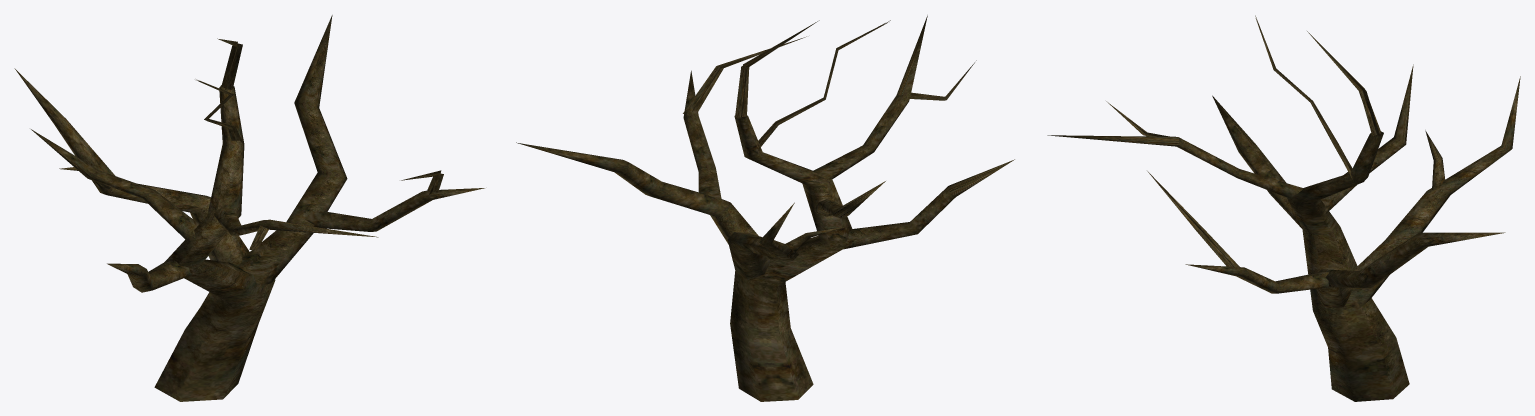
File: CB_BURNT_TREE01.fbx
3 views of the same model, side by side, from view 1: azimuth 30°, elevation 25°; view 2: azimuth 150°, elevation 25°; view 3: azimuth 270°, elevation 25° (orthographic). The views are drawn at different scales.
Parts seen in each view (by area): view 1: CB_BURNT_TREE01; view 2: CB_BURNT_TREE01; view 3: CB_BURNT_TREE01.
Part boxes in pixels (box(x1,y1,x2,y2)): CB_BURNT_TREE01: box(14, 15, 484, 401); CB_BURNT_TREE01: box(516, 15, 1014, 401); CB_BURNT_TREE01: box(1047, 15, 1520, 401).
Bounding box in the file's own units: 101865 × 95229 × 117030.
1 material, 1 textured.
